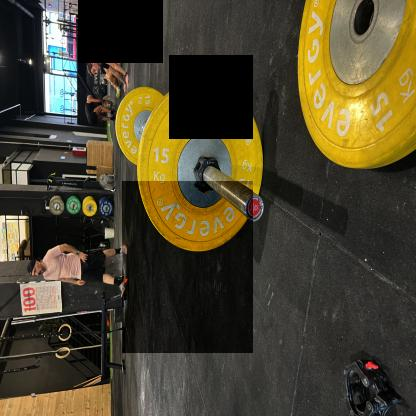barbell: (123, 183, 254, 355)
